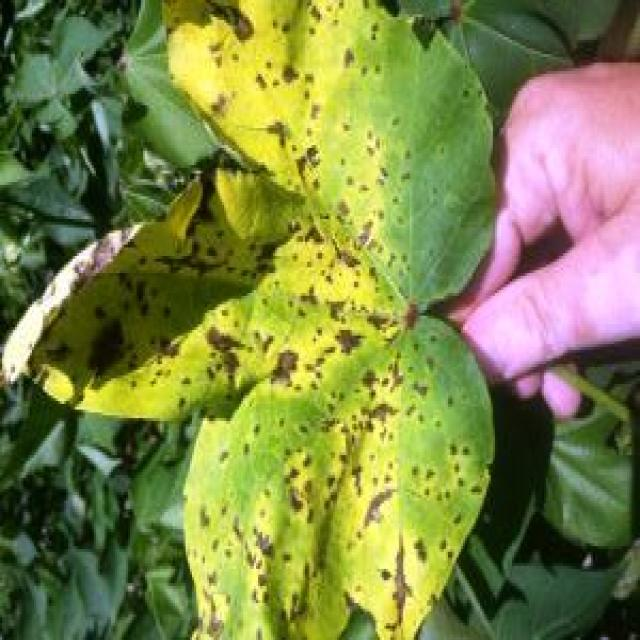Bacterial Blight: (109, 228, 372, 389)
